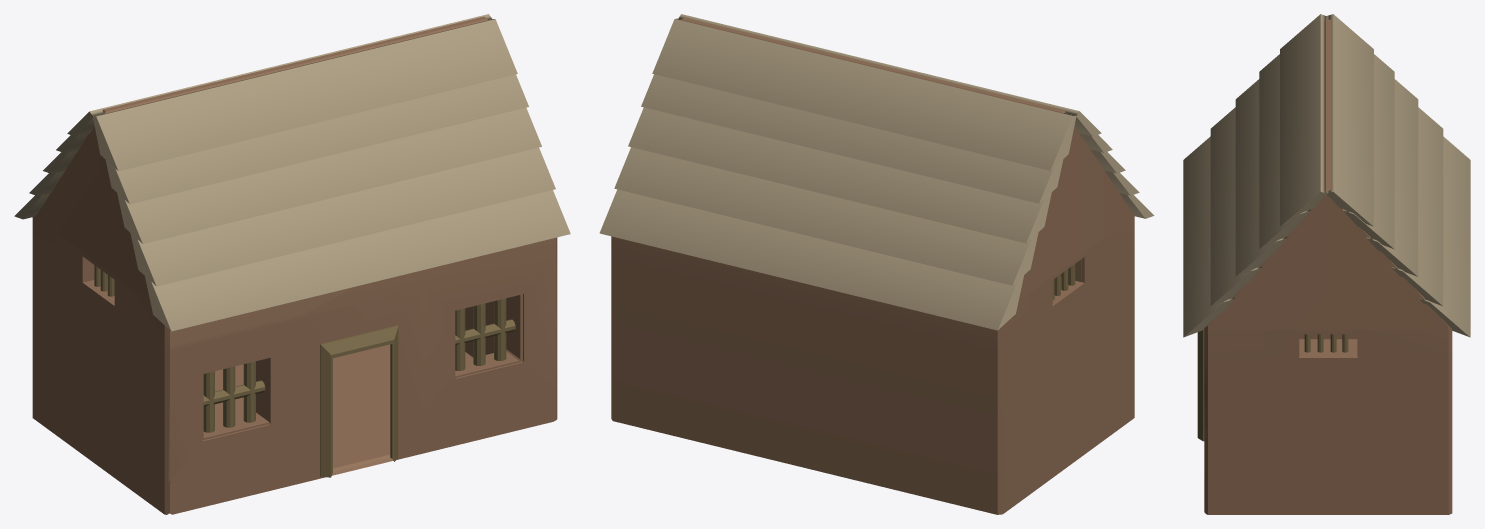
The model's file is Maison_2.fbx.
3 views of the same model, side by side, from view 1: azimuth 30°, elevation 25°; view 2: azimuth 150°, elevation 25°; view 3: azimuth 270°, elevation 25° (orthographic). The views are drawn at different scales.
Visible parts, largest first — view 1: pCube1, pasted__pasted__pPlane1, pPlane1, pasted__pPlane2, pasted__pPlane1, pasted__pasted__pPlane2, pCube2, pasted__pasted__pasted__pPlane1, pasted__pasted__pasted__pasted__pasted__pCylinder1, pasted__pasted__pasted__pasted__pCylinder2, pasted__pasted__pasted__pCylinder4, pasted__pasted__pasted__pasted__pCylinder4 (+1 smaller); view 2: pCube1, pasted__pasted__pasted__pPlane1, pasted__pPlane3, pasted__pasted__pPlane4, pasted__pasted__pPlane3, pasted__pasted__pasted__pPlane2, pasted__pasted__pPlane1; view 3: pCube1, pasted__pasted__pPlane1, pasted__pasted__pasted__pPlane1, pPlane1, pasted__pPlane3, pasted__pPlane2, pasted__pasted__pPlane4, pasted__pPlane1, pasted__pasted__pPlane3, pasted__pasted__pPlane2, pasted__pasted__pasted__pPlane2, pCube2.
Boxes of the visible parts, x1=… form: pCube1: x1=32, y1=16, x2=557, y2=514; pasted__pasted__pPlane1: x1=93, y1=19, x2=517, y2=171; pPlane1: x1=145, y1=190, x2=570, y2=331; pasted__pPlane2: x1=130, y1=147, x2=555, y2=286; pasted__pPlane1: x1=117, y1=108, x2=541, y2=243; pasted__pasted__pPlane2: x1=105, y1=74, x2=528, y2=204; pCube2: x1=320, y1=325, x2=398, y2=477; pasted__pasted__pasted__pPlane1: x1=67, y1=14, x2=491, y2=136; pasted__pasted__pasted__pasted__pasted__pCylinder1: x1=494, y1=298, x2=506, y2=360; pasted__pasted__pasted__pasted__pCylinder2: x1=473, y1=303, x2=485, y2=365; pasted__pasted__pasted__pCylinder4: x1=223, y1=366, x2=235, y2=427; pasted__pasted__pasted__pasted__pCylinder4: x1=243, y1=361, x2=255, y2=422; pCube1: x1=611, y1=17, x2=1134, y2=514; pasted__pasted__pasted__pPlane1: x1=652, y1=18, x2=1076, y2=170; pasted__pPlane3: x1=599, y1=189, x2=1023, y2=330; pasted__pasted__pPlane4: x1=614, y1=147, x2=1038, y2=285; pasted__pasted__pPlane3: x1=628, y1=107, x2=1051, y2=243; pasted__pasted__pasted__pPlane2: x1=641, y1=74, x2=1063, y2=203; pasted__pasted__pPlane1: x1=678, y1=14, x2=1101, y2=136; pCube1: x1=1204, y1=19, x2=1452, y2=514; pasted__pasted__pPlane1: x1=1280, y1=14, x2=1326, y2=226; pasted__pasted__pasted__pPlane1: x1=1326, y1=14, x2=1373, y2=226; pPlane1: x1=1183, y1=136, x2=1234, y2=337; pasted__pPlane3: x1=1419, y1=136, x2=1470, y2=337; pasted__pPlane2: x1=1210, y1=107, x2=1262, y2=306; pasted__pasted__pPlane4: x1=1391, y1=107, x2=1443, y2=306; pasted__pPlane1: x1=1235, y1=79, x2=1287, y2=276; pasted__pasted__pPlane3: x1=1366, y1=79, x2=1418, y2=276; pasted__pasted__pPlane2: x1=1259, y1=54, x2=1310, y2=249; pasted__pasted__pasted__pPlane2: x1=1343, y1=54, x2=1394, y2=249; pCube2: x1=1197, y1=330, x2=1204, y2=441.
Size of the model in its own units: 20.9 by 17.52 by 14.1.
